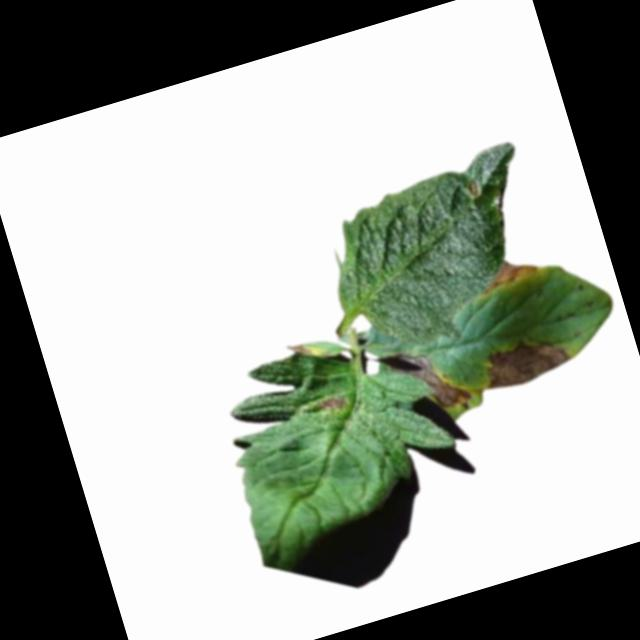Early_blight: (381, 335, 476, 429), (478, 324, 581, 395), (473, 250, 544, 296), (317, 390, 348, 416), (283, 337, 313, 361), (466, 179, 484, 198)
